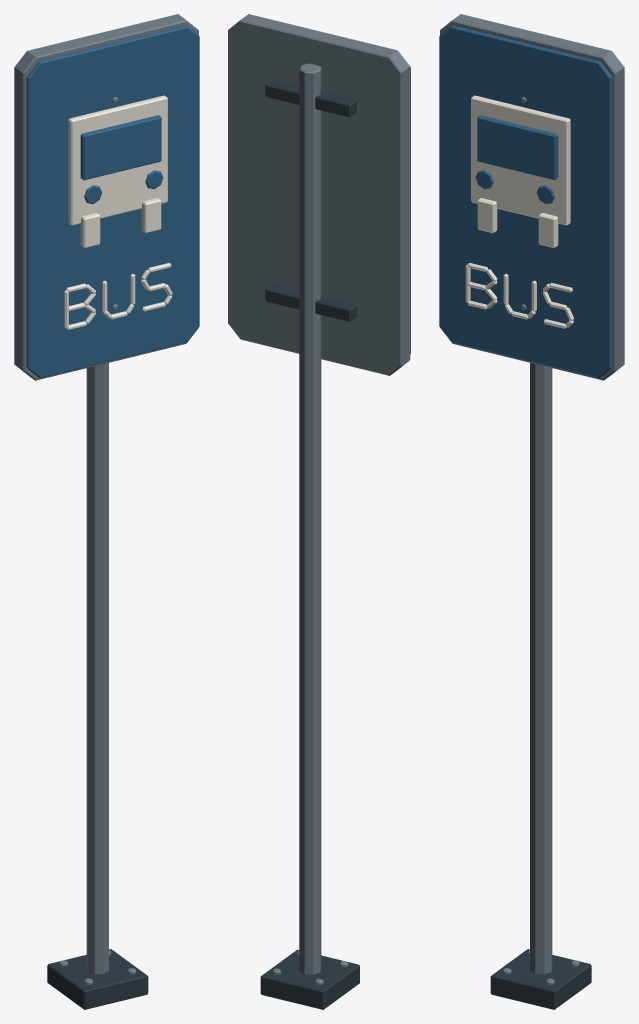
File: b02_bus_stop_sign.glb
The picture shows the model from 3 angles, left to right: view 1: azimuth 30°, elevation 25°; view 2: azimuth 150°, elevation 25°; view 3: azimuth 330°, elevation 25°; orthographic projection.
Parts seen in each view (by area): view 1: b02_bus_stop_sign; view 2: b02_bus_stop_sign; view 3: b02_bus_stop_sign.
Boxes of the visible parts, <box> form: b02_bus_stop_sign: <box>14,14,199,1009</box>; b02_bus_stop_sign: <box>228,14,410,1009</box>; b02_bus_stop_sign: <box>439,14,624,1009</box>.
Bounding box in the file's own units: 0.49 × 2.55 × 0.219.
